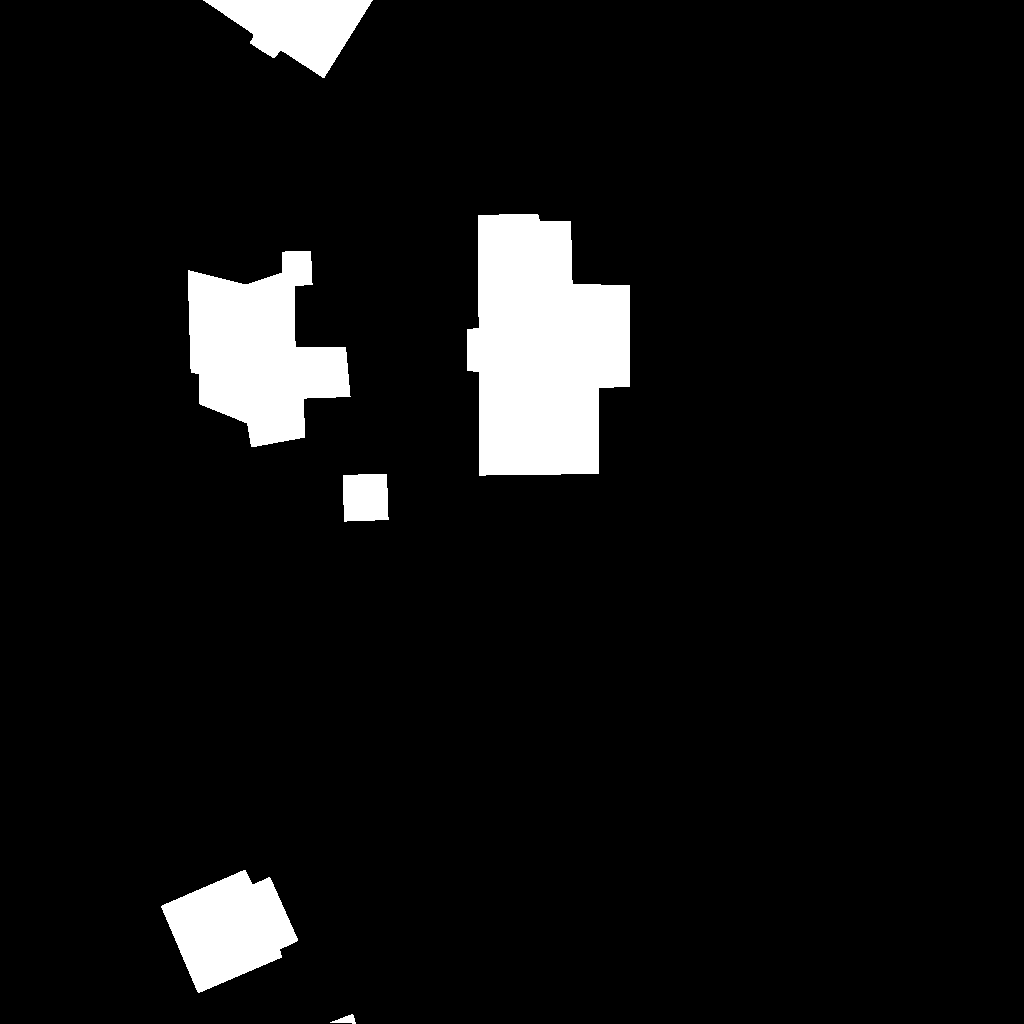building: (467, 214, 630, 476), (188, 251, 351, 448), (161, 870, 299, 994), (203, 0, 374, 79), (343, 474, 389, 522), (329, 1014, 357, 1024)
